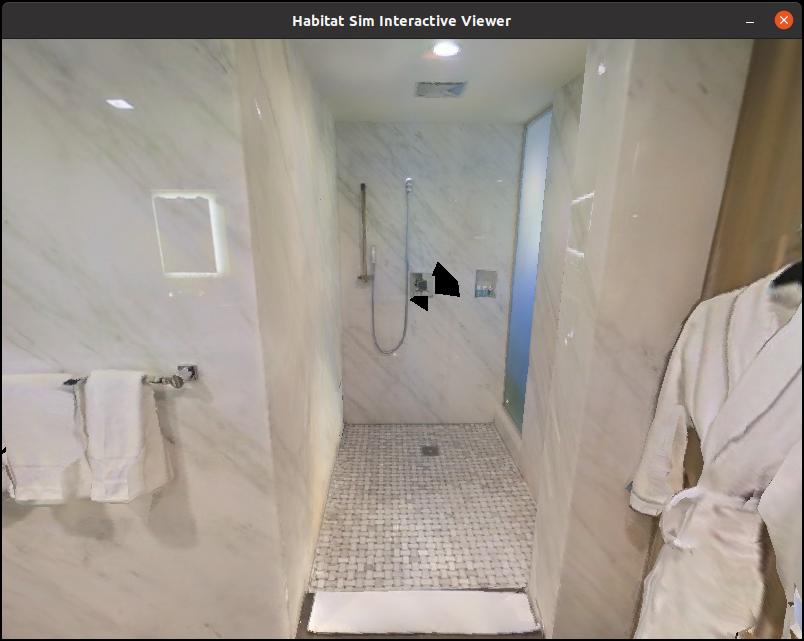shower: (245, 81, 586, 605)
